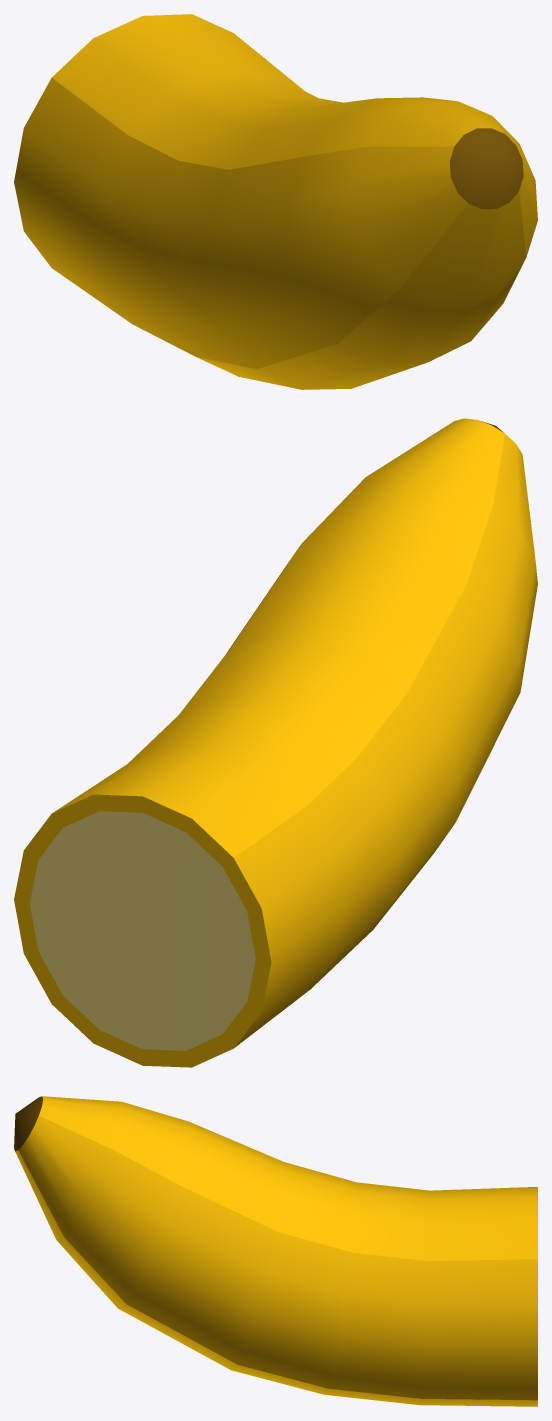
The model's file is Half_a_banana_01.fbx.
The picture shows the model from 3 angles, top to bottom: view 1: azimuth 30°, elevation 25°; view 2: azimuth 150°, elevation 25°; view 3: azimuth 270°, elevation 25°; orthographic projection. The views are drawn at different scales.
Visible parts, largest first — view 1: Half_a_banana_01; view 2: Half_a_banana_01; view 3: Half_a_banana_01.
Boxes of the visible parts, bbox=[...] form: Half_a_banana_01: bbox=[14, 14, 537, 389]; Half_a_banana_01: bbox=[14, 418, 537, 1067]; Half_a_banana_01: bbox=[14, 1096, 537, 1406].
Size of the model in its own units: 41.15 by 61.3 by 97.93.
